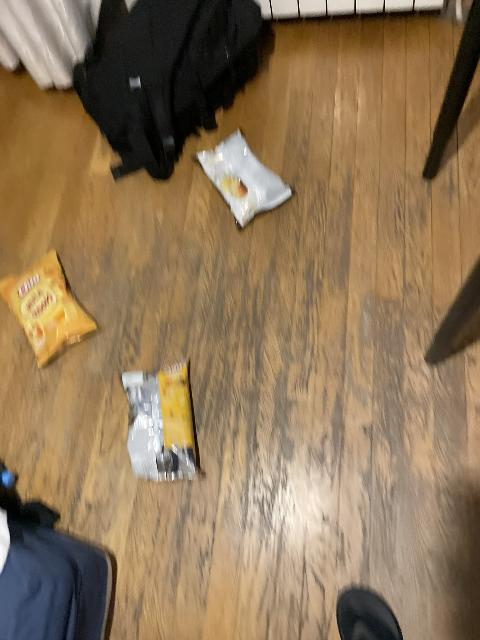Chio Cascaval 125g: (121, 361, 201, 483)
Chio Hula Hoops Cheese 70g: (0, 251, 101, 364)
Lays Beef Grilled Ribs 125g: (195, 128, 293, 228)
